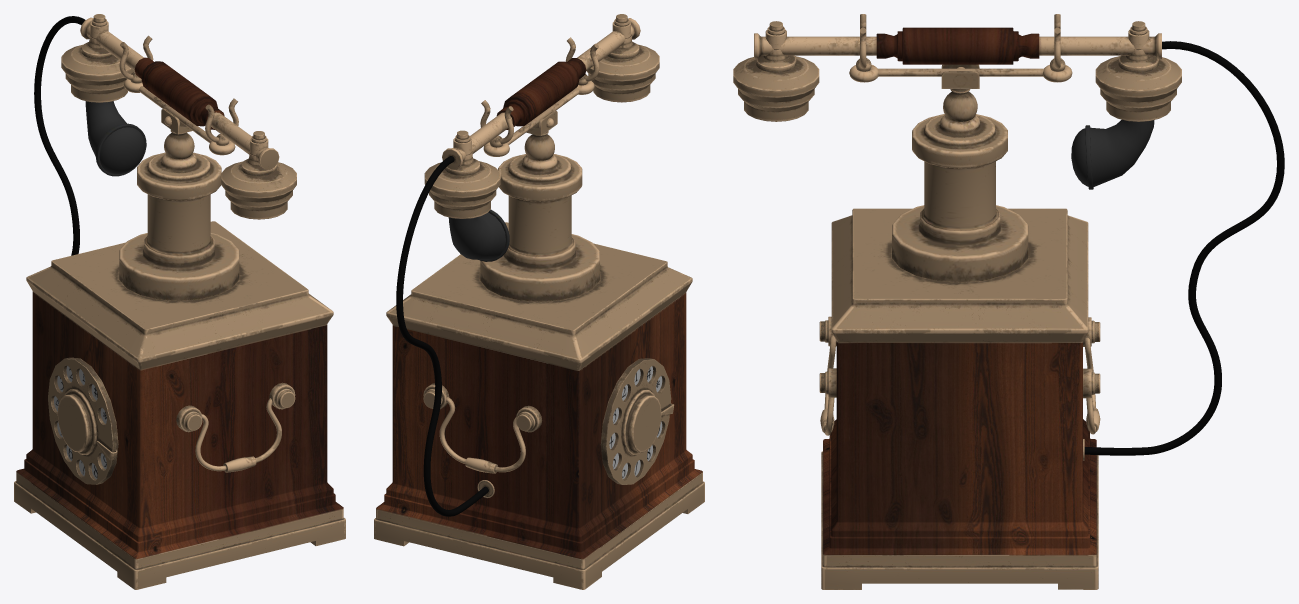
The model's file is OldPhone.fbx.
The picture shows the model from 3 angles, left to right: view 1: azimuth 30°, elevation 25°; view 2: azimuth 150°, elevation 25°; view 3: azimuth 270°, elevation 25°; orthographic projection. The views are drawn at different scales.
Parts seen in each view (by area): view 1: Old Telephone-Freepoly.org; view 2: Old Telephone-Freepoly.org; view 3: Old Telephone-Freepoly.org.
Part boxes in pixels (x1,y1,x2,y2): Old Telephone-Freepoly.org: (14, 14, 345, 589); Old Telephone-Freepoly.org: (374, 14, 704, 589); Old Telephone-Freepoly.org: (733, 14, 1284, 589).
Bounding box in the file's own units: 14.01 × 28.14 × 27.56.
Materials: 1 (1 with a texture image).
